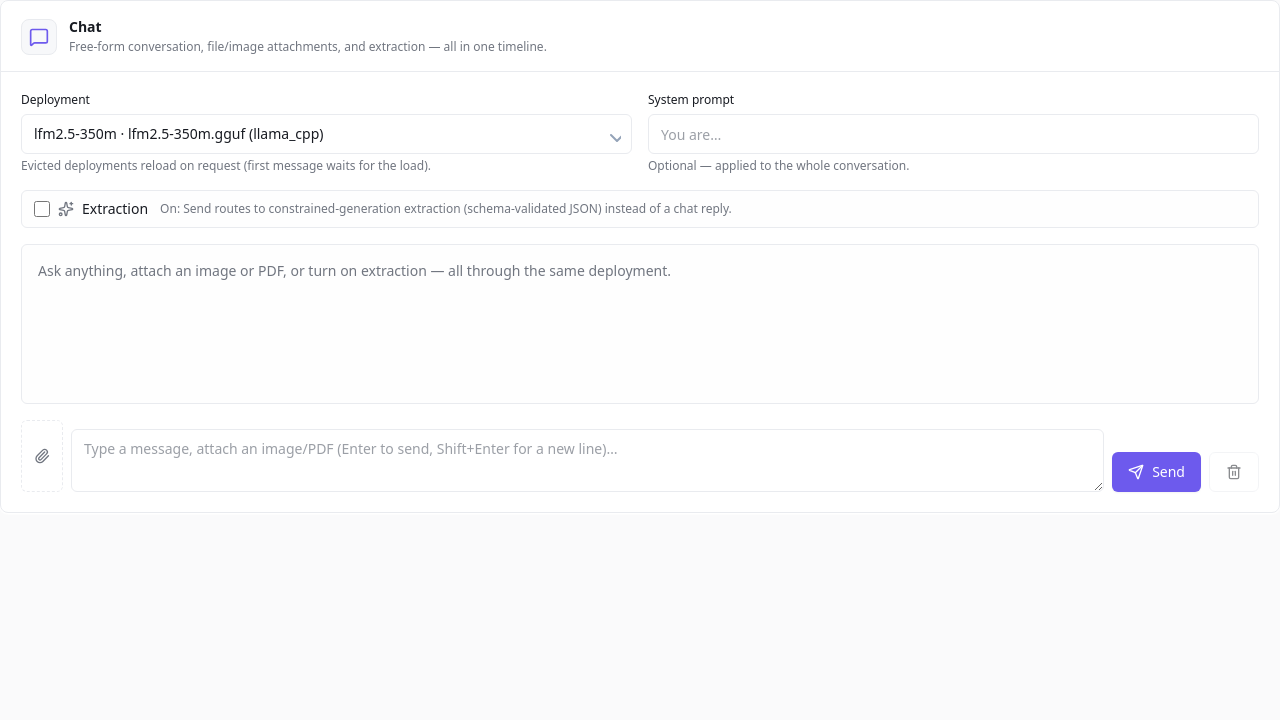
Test case: ChatPanel › sends a plain chat message and streams the answer
This screenshot has width=1280, height=720.
In the text box with placeholder "Type a message": coordinates (588, 460) left=71, top=428, right=1104, bottom=492, type "hello"
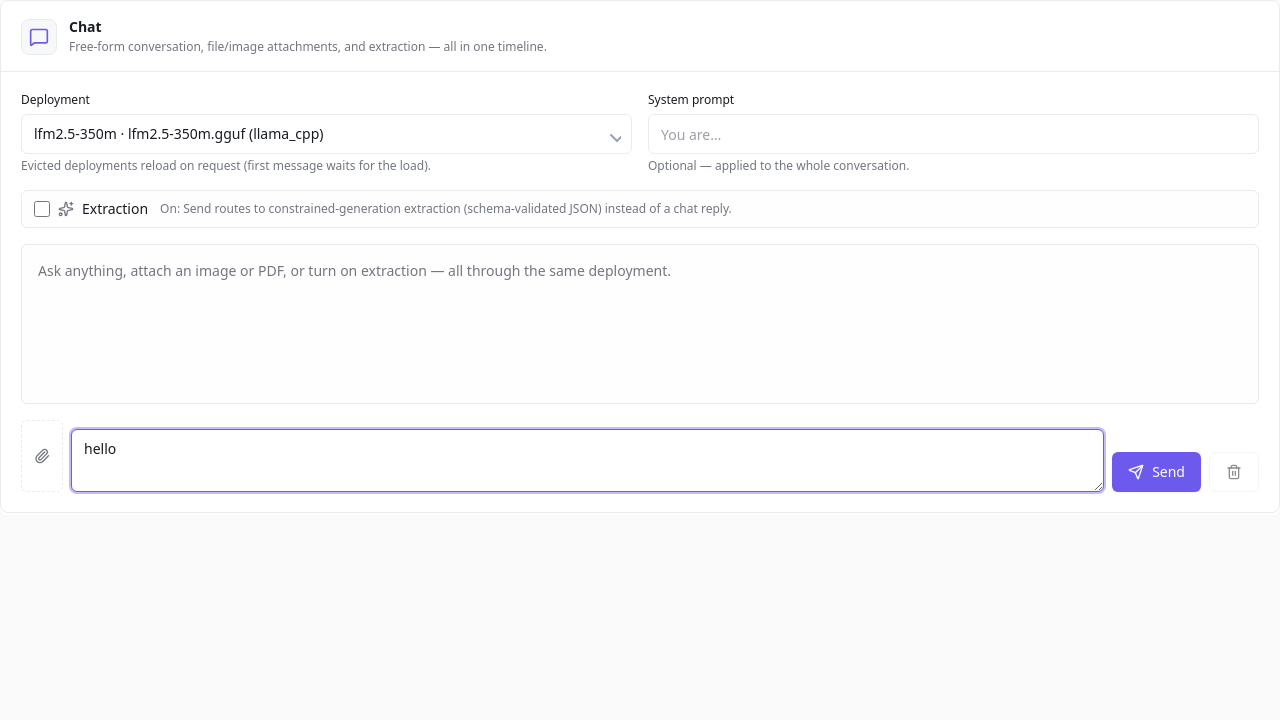
Click the button "Send": coordinates (1157, 472) left=1112, top=452, right=1201, bottom=492
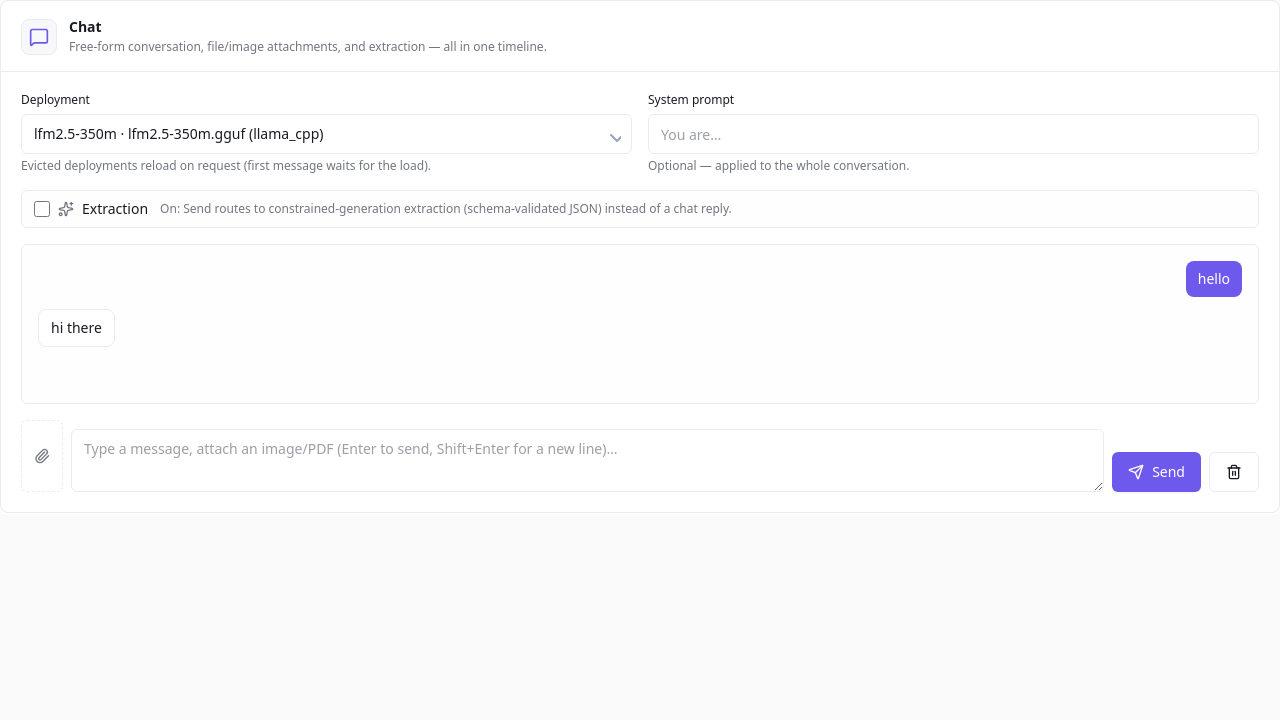
Expected: the text "hi there" is shown, left=51, top=318, right=102, bottom=338
